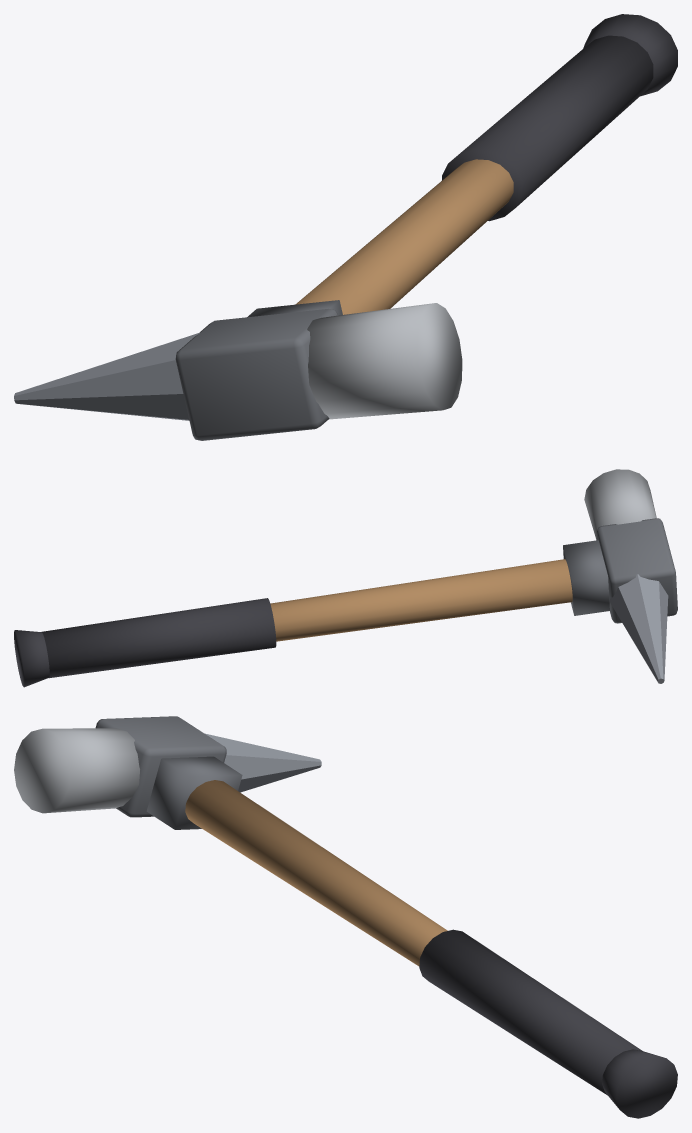
The model's file is hammer.glb.
3 renders of one model, top to bottom at view 1: azimuth 30°, elevation 25°; view 2: azimuth 150°, elevation 25°; view 3: azimuth 270°, elevation 25°, orthographic. The views are drawn at different scales.
Visible parts, largest first — view 1: Hammer_FlatHead, Hammer_HeadCenter, Hammer_Grip, Hammer_Handle, Hammer_SharpHead, Hammer_Pommel, Hammer_Collar; view 2: Hammer_Handle, Hammer_Grip, Hammer_HeadCenter, Hammer_SharpHead, Hammer_FlatHead, Hammer_Collar, Hammer_Pommel; view 3: Hammer_Handle, Hammer_Grip, Hammer_FlatHead, Hammer_HeadCenter, Hammer_Pommel, Hammer_Collar, Hammer_SharpHead.
Boxes of the visible parts, box(x1,y1,x2,y2) form: Hammer_FlatHead: box(307, 303, 462, 419); Hammer_HeadCenter: box(175, 308, 337, 440); Hammer_Grip: box(442, 35, 653, 221); Hammer_Handle: box(295, 159, 513, 314); Hammer_SharpHead: box(14, 332, 199, 420); Hammer_Pommel: box(583, 14, 677, 96); Hammer_Collar: box(247, 300, 342, 317); Hammer_Handle: box(270, 559, 572, 641); Hammer_Grip: box(42, 598, 276, 678); Hammer_HeadCenter: box(596, 518, 677, 623); Hammer_SharpHead: box(609, 574, 668, 683); Hammer_FlatHead: box(584, 469, 656, 540); Hammer_Collar: box(563, 540, 609, 615); Hammer_Pommel: box(14, 630, 49, 687); Hammer_Handle: box(185, 780, 447, 966); Hammer_Grip: box(419, 929, 642, 1095); Hammer_FlatHead: box(14, 728, 139, 813); Hammer_HeadCenter: box(95, 716, 226, 817); Hammer_Pommel: box(602, 1049, 677, 1118); Hammer_Collar: box(146, 756, 242, 829); Hammer_SharpHead: box(204, 733, 321, 792).
Bounding box in the file's own units: 0.347 × 0.081 × 0.2977.
